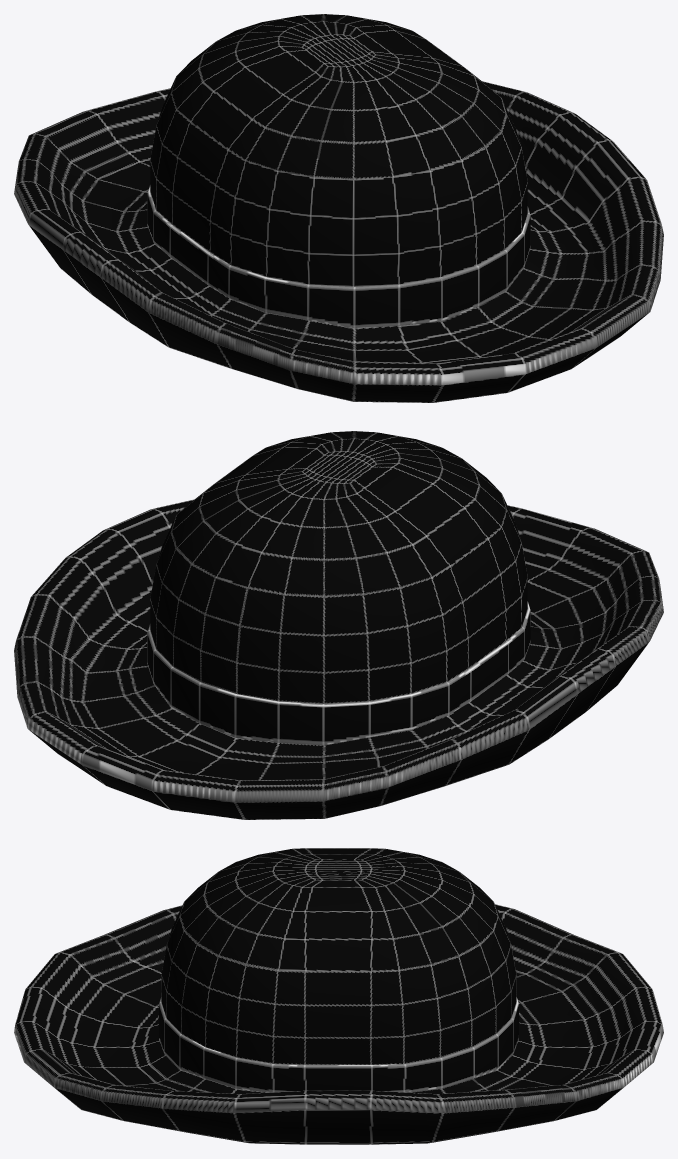
Rendered from Bowler Hat.FBX.
The picture shows the model from 3 angles, top to bottom: view 1: azimuth 30°, elevation 25°; view 2: azimuth 150°, elevation 25°; view 3: azimuth 270°, elevation 25°; orthographic projection. The views are drawn at different scales.
Visible parts, largest first — view 1: Sphere001, Group001; view 2: Sphere001, Group001; view 3: Sphere001, Group001.
Boxes of the visible parts, x1,y1,x2,y2 form: Sphere001: (14,14,663,402); Group001: (147,185,530,328); Sphere001: (14,431,663,819); Group001: (147,601,530,745); Sphere001: (14,848,663,1144); Group001: (159,997,518,1092).
Bounding box in the file's own units: 157 × 65.4 × 197.
